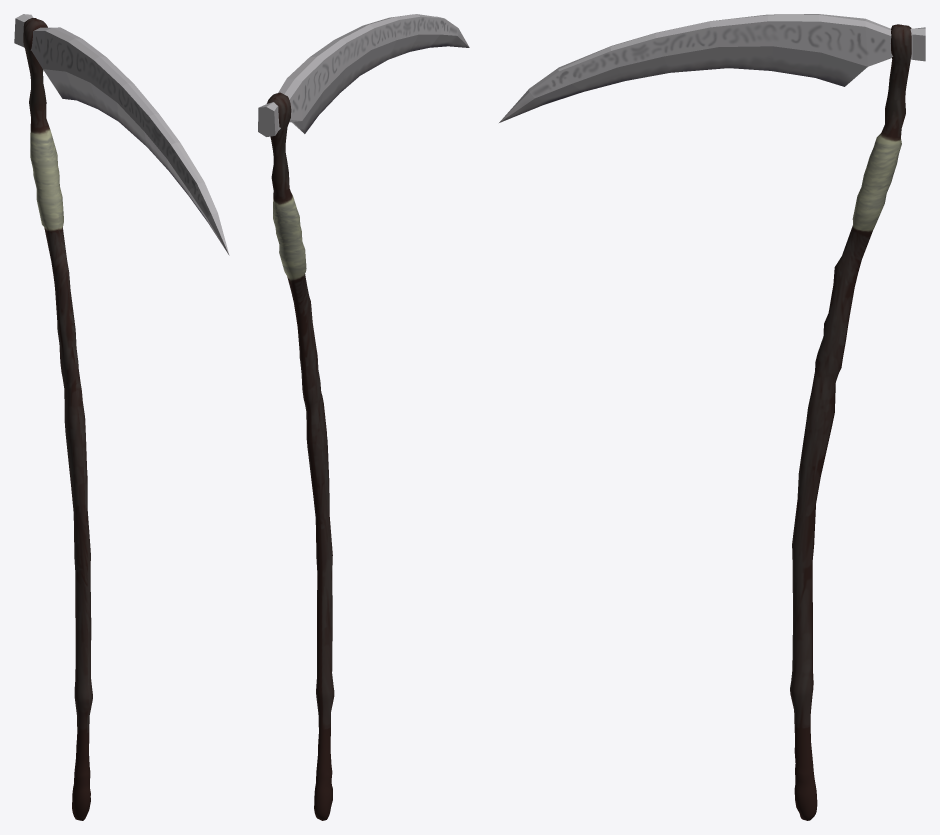
Rendered from ScythePlaceholder.glb.
3 views of the same model, side by side, from view 1: azimuth 30°, elevation 25°; view 2: azimuth 150°, elevation 25°; view 3: azimuth 270°, elevation 25° (orthographic). The views are drawn at different scales.
Parts seen in each view (by area): view 1: SCYTHE BLADE; view 2: SCYTHE BLADE; view 3: SCYTHE BLADE.
Part boxes in pixels (<box>): SCYTHE BLADE: <box>14,14,229,820</box>; SCYTHE BLADE: <box>258,14,469,820</box>; SCYTHE BLADE: <box>499,14,925,820</box>.
Size of the model in its own units: 0.2814 by 8.44 by 4.05.
Materials: 2 (2 with a texture image).
